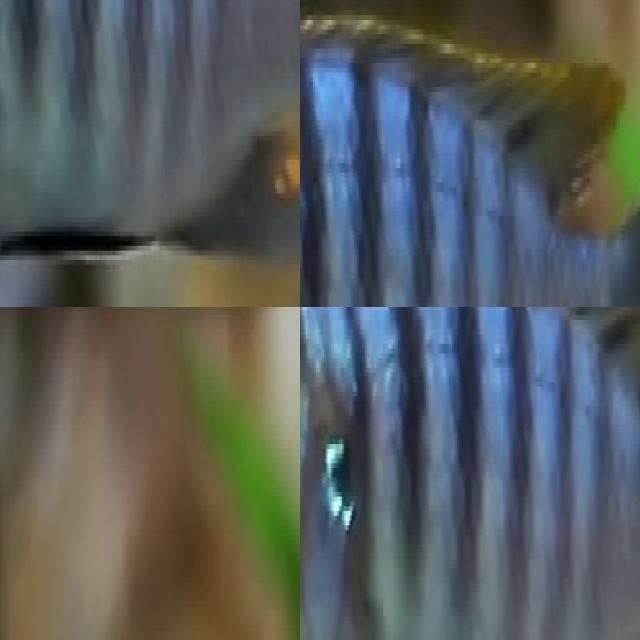fish: (300, 307, 640, 640), (300, 0, 640, 307), (0, 0, 300, 307)
